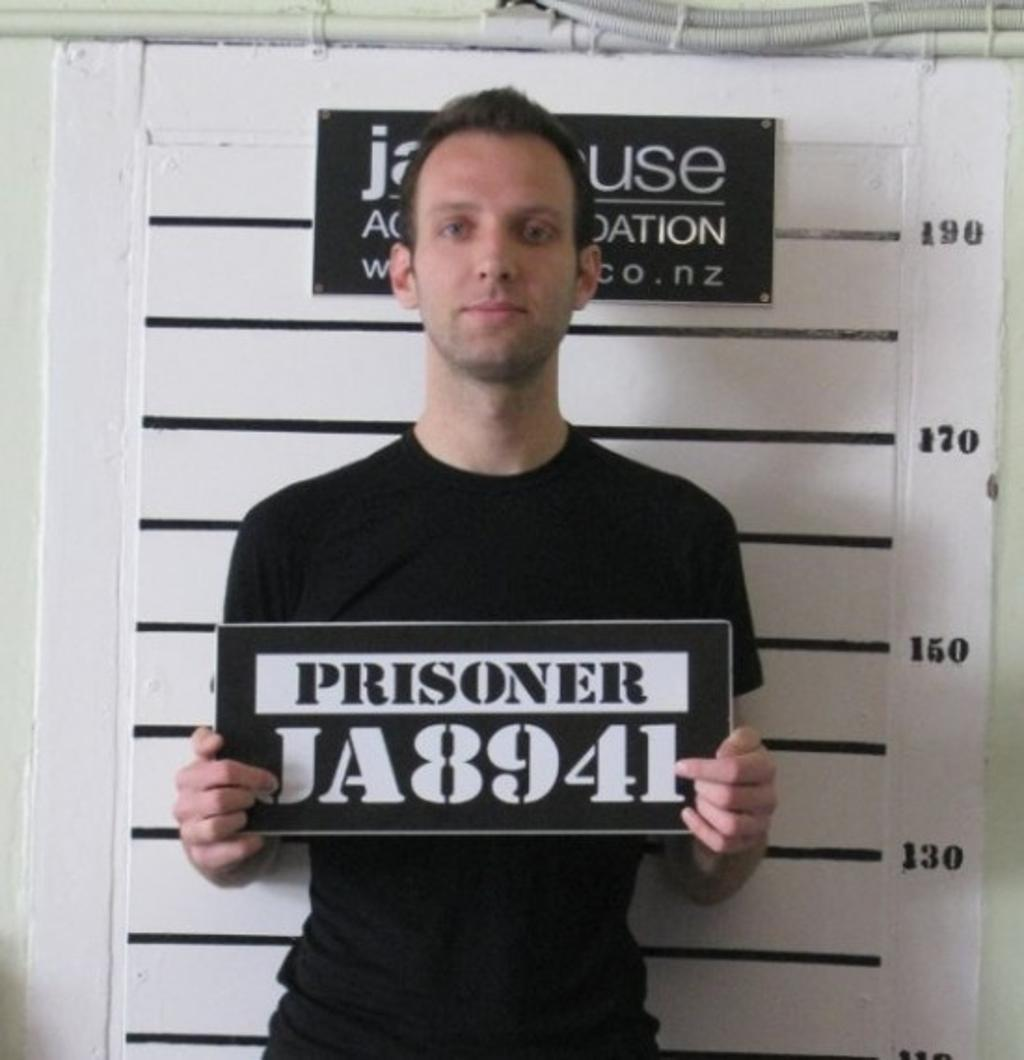face: (413, 125, 574, 375)
